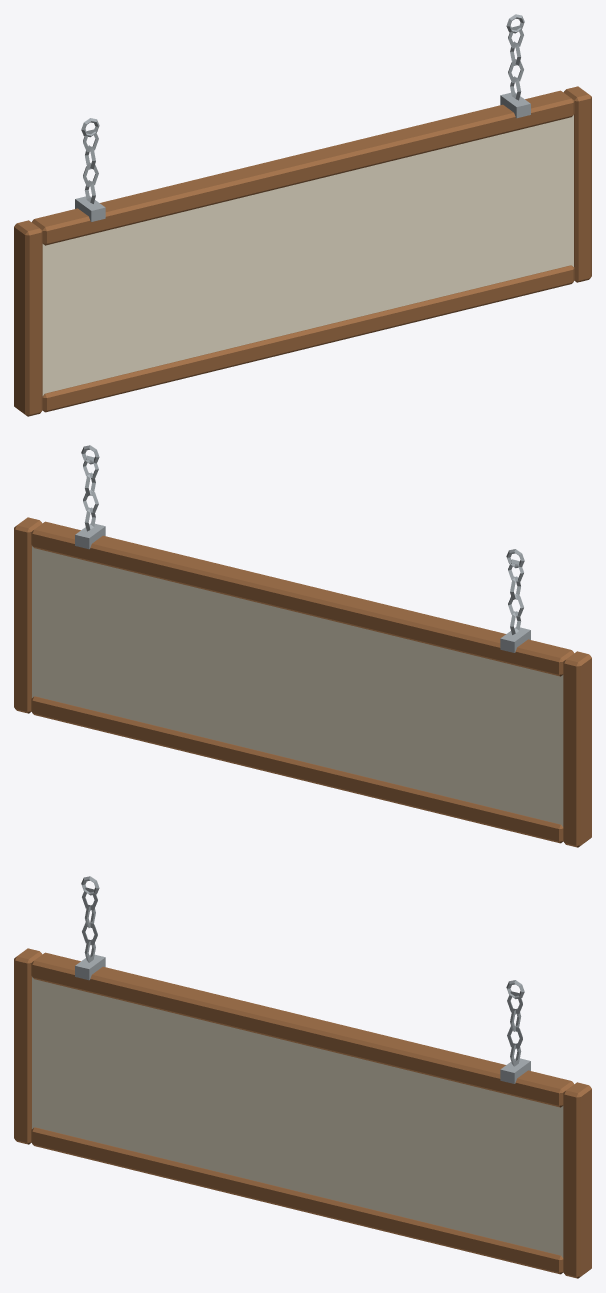
The model's file is sign_hanging.glb.
3 renders of one model, top to bottom at view 1: azimuth 30°, elevation 25°; view 2: azimuth 150°, elevation 25°; view 3: azimuth 330°, elevation 25°, orthographic.
Visible parts, largest first — view 1: sign_hanging; view 2: sign_hanging; view 3: sign_hanging.
Part boxes in pixels (x1=…): sign_hanging: x1=14, y1=14, x2=591, y2=416; sign_hanging: x1=14, y1=445, x2=591, y2=847; sign_hanging: x1=14, y1=876, x2=591, y2=1278.
Bounding box in the file's own units: 1.6 × 0.75 × 0.08.
